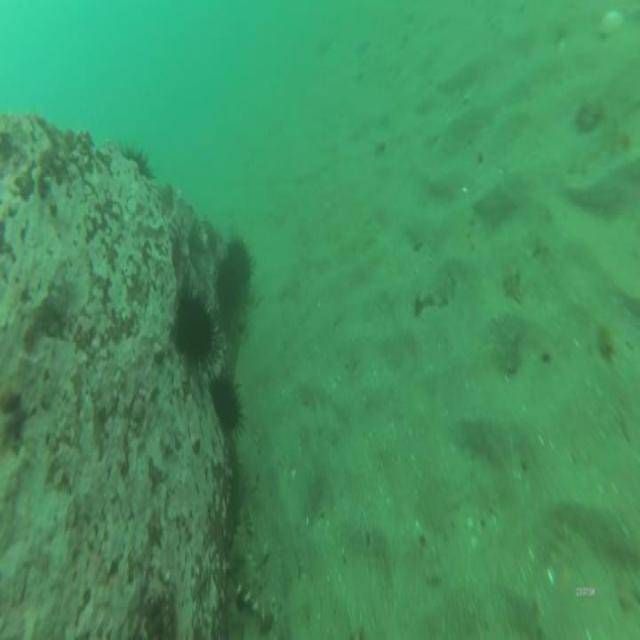echinus: (169, 292, 215, 367), (212, 366, 246, 434), (225, 236, 252, 296)
holothurian: (225, 555, 277, 632)
